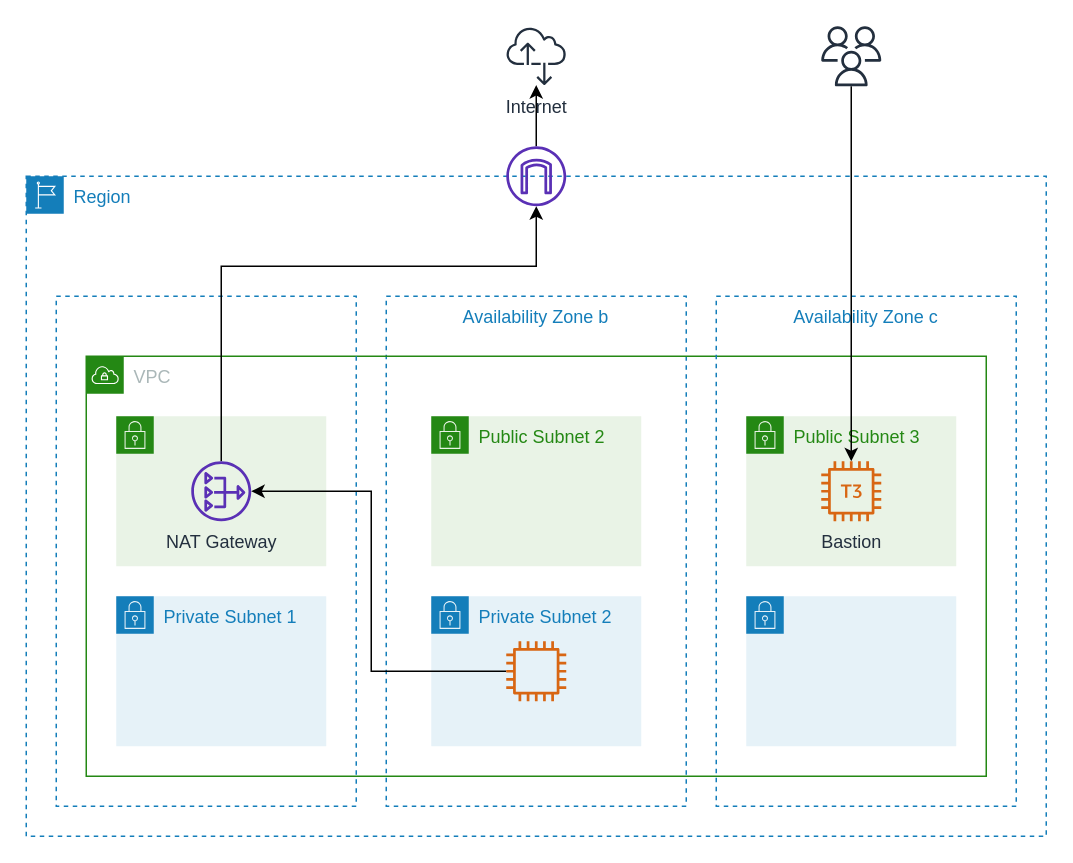
Some shapes in this 1073 by 863 pixel diagram are drawn without their labels. The shapes that lost their labels are listed below. From the top down, each one's box as (x1, y1, x2, y2) in pixels, then its label:
(820, 26, 880, 86): Administrators
(506, 146, 566, 206): Internet Gateway
(115, 415, 326, 566): Public Subnet 1
(55, 295, 356, 806): Availability Zone a
(745, 595, 956, 746): Private Subnet 3
